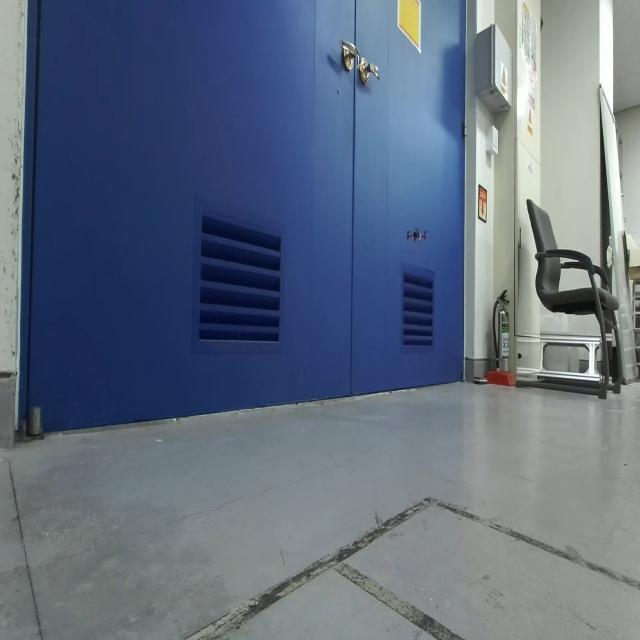crazyflie: (404, 221, 429, 251)
